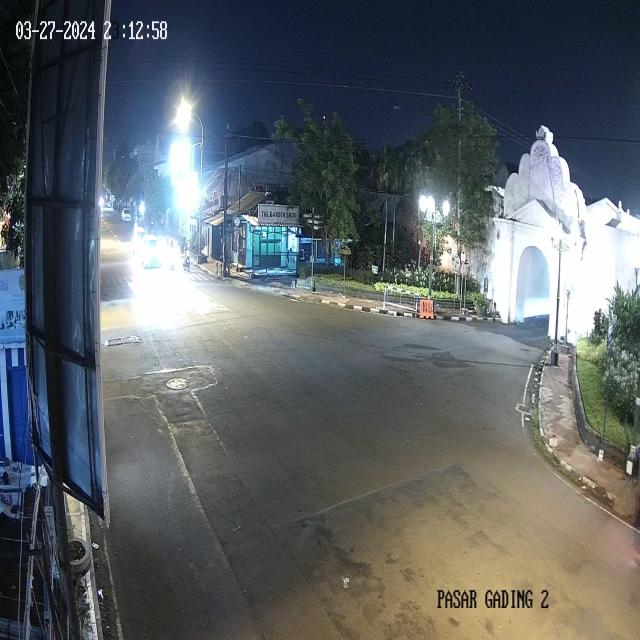car: (137, 224, 168, 282)
motorcycle: (180, 243, 192, 275)
